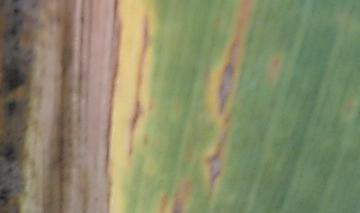tarspot: (1, 65, 27, 93), (1, 145, 17, 163), (1, 187, 11, 207), (6, 99, 17, 117), (8, 24, 18, 35), (11, 6, 21, 15), (10, 1, 18, 4)
